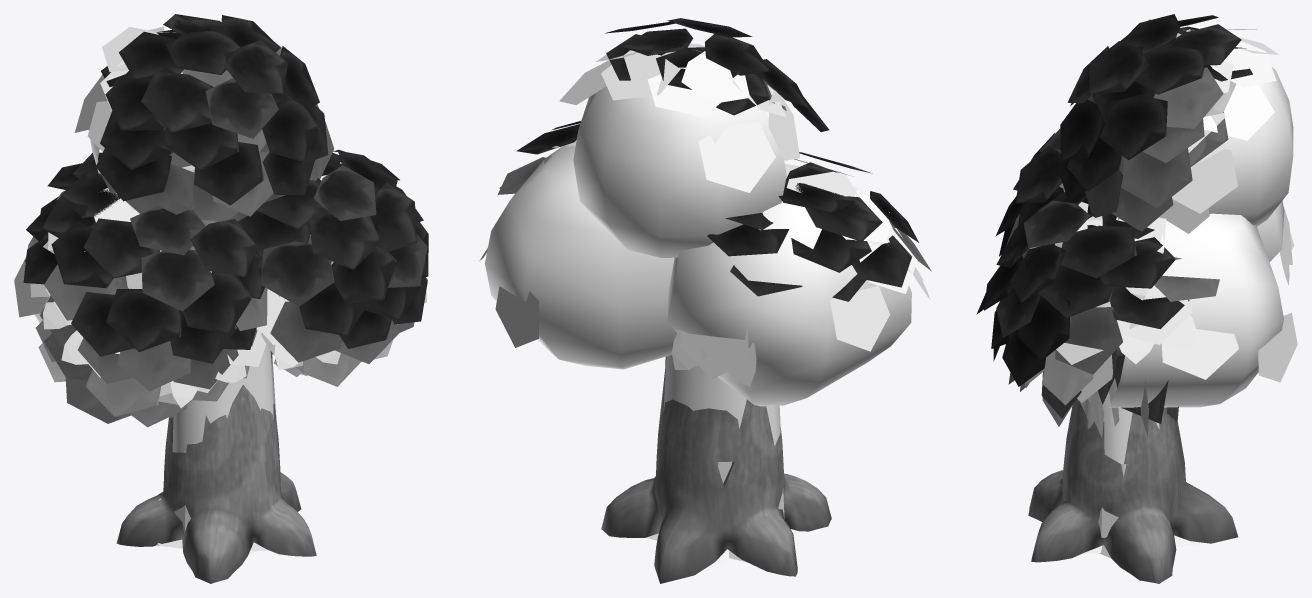
Rendered from PltTreeOak3Node.glb.
3 views of the same model, side by side, from view 1: azimuth 30°, elevation 25°; view 2: azimuth 150°, elevation 25°; view 3: azimuth 270°, elevation 25° (orthographic). The views are drawn at different scales.
Visible parts, largest first — view 1: L01_010__mTreeOakLeaf, TrunkBottom__mPltTreeOakTrunk, L01_017__mShadowShake, LB030__mShadow, ShLeaf_010__mShadowShake, LB014__mTreeOakLeafBack; view 2: LB030__mShadow, TrunkBottom__mPltTreeOakTrunk, L01_010__mTreeOakLeaf, L01_017__mShadowShake, ShLeaf_010__mShadowShake; view 3: L01_010__mTreeOakLeaf, LB030__mShadow, TrunkBottom__mPltTreeOakTrunk, L01_017__mShadowShake, LB014__mTreeOakLeafBack, ShLeaf_010__mShadowShake.
Boxes of the visible parts, <box> form: L01_010__mTreeOakLeaf: <box>23,14,428,427</box>; TrunkBottom__mPltTreeOakTrunk: <box>116,351,316,583</box>; L01_017__mShadowShake: <box>14,26,397,396</box>; LB030__mShadow: <box>27,71,341,556</box>; ShLeaf_010__mShadowShake: <box>43,297,340,408</box>; LB014__mTreeOakLeafBack: <box>65,172,273,423</box>; LB030__mShadow: <box>485,43,911,570</box>; TrunkBottom__mPltTreeOakTrunk: <box>601,357,831,583</box>; L01_010__mTreeOakLeaf: <box>497,18,931,301</box>; L01_017__mShadowShake: <box>479,50,923,378</box>; ShLeaf_010__mShadowShake: <box>485,251,929,386</box>; L01_010__mTreeOakLeaf: <box>976,14,1252,438</box>; LB030__mShadow: <box>1029,29,1293,558</box>; TrunkBottom__mPltTreeOakTrunk: <box>1028,347,1238,583</box>; L01_017__mShadowShake: <box>1024,29,1297,402</box>; LB014__mTreeOakLeafBack: <box>1070,112,1228,423</box>; ShLeaf_010__mShadowShake: <box>1119,231,1294,364</box>.
Size of the model in its own units: 21.64 by 26.53 by 15.18.
5 materials, 3 textured.
